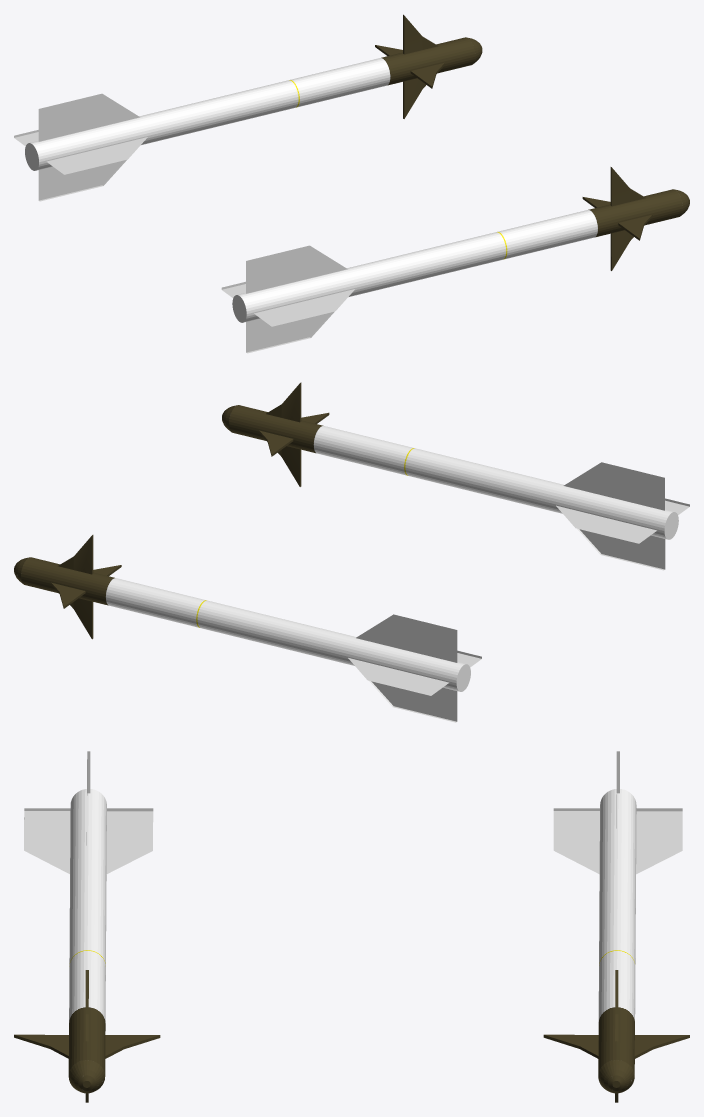
Rendered from aim9fa18e56.glb.
3 views of the same model, one above another, from view 1: azimuth 30°, elevation 25°; view 2: azimuth 150°, elevation 25°; view 3: azimuth 270°, elevation 25° (orthographic). The views are drawn at different scales.
Visible parts, largest first — view 1: 円柱.005, 円柱.001; view 2: 円柱.001, 円柱.005; view 3: 円柱.001, 円柱.005.
Part boxes in pixels (x1,y1,x2,y2): 円柱.005: (221,167,689,353); 円柱.001: (14,14,482,201); 円柱.001: (14,535,481,722); 円柱.005: (222,382,689,570); 円柱.001: (543,751,689,1102); 円柱.005: (14,751,160,1102).
Size of the model in its own units: 3.38 by 0.7497 by 3.46.
Materials: 2 (2 with a texture image).
